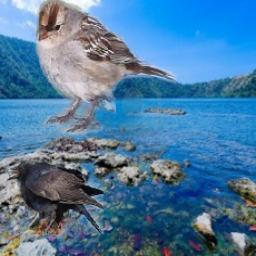Crow: (6, 161, 105, 234)
Sparrow: (30, 0, 177, 136)
